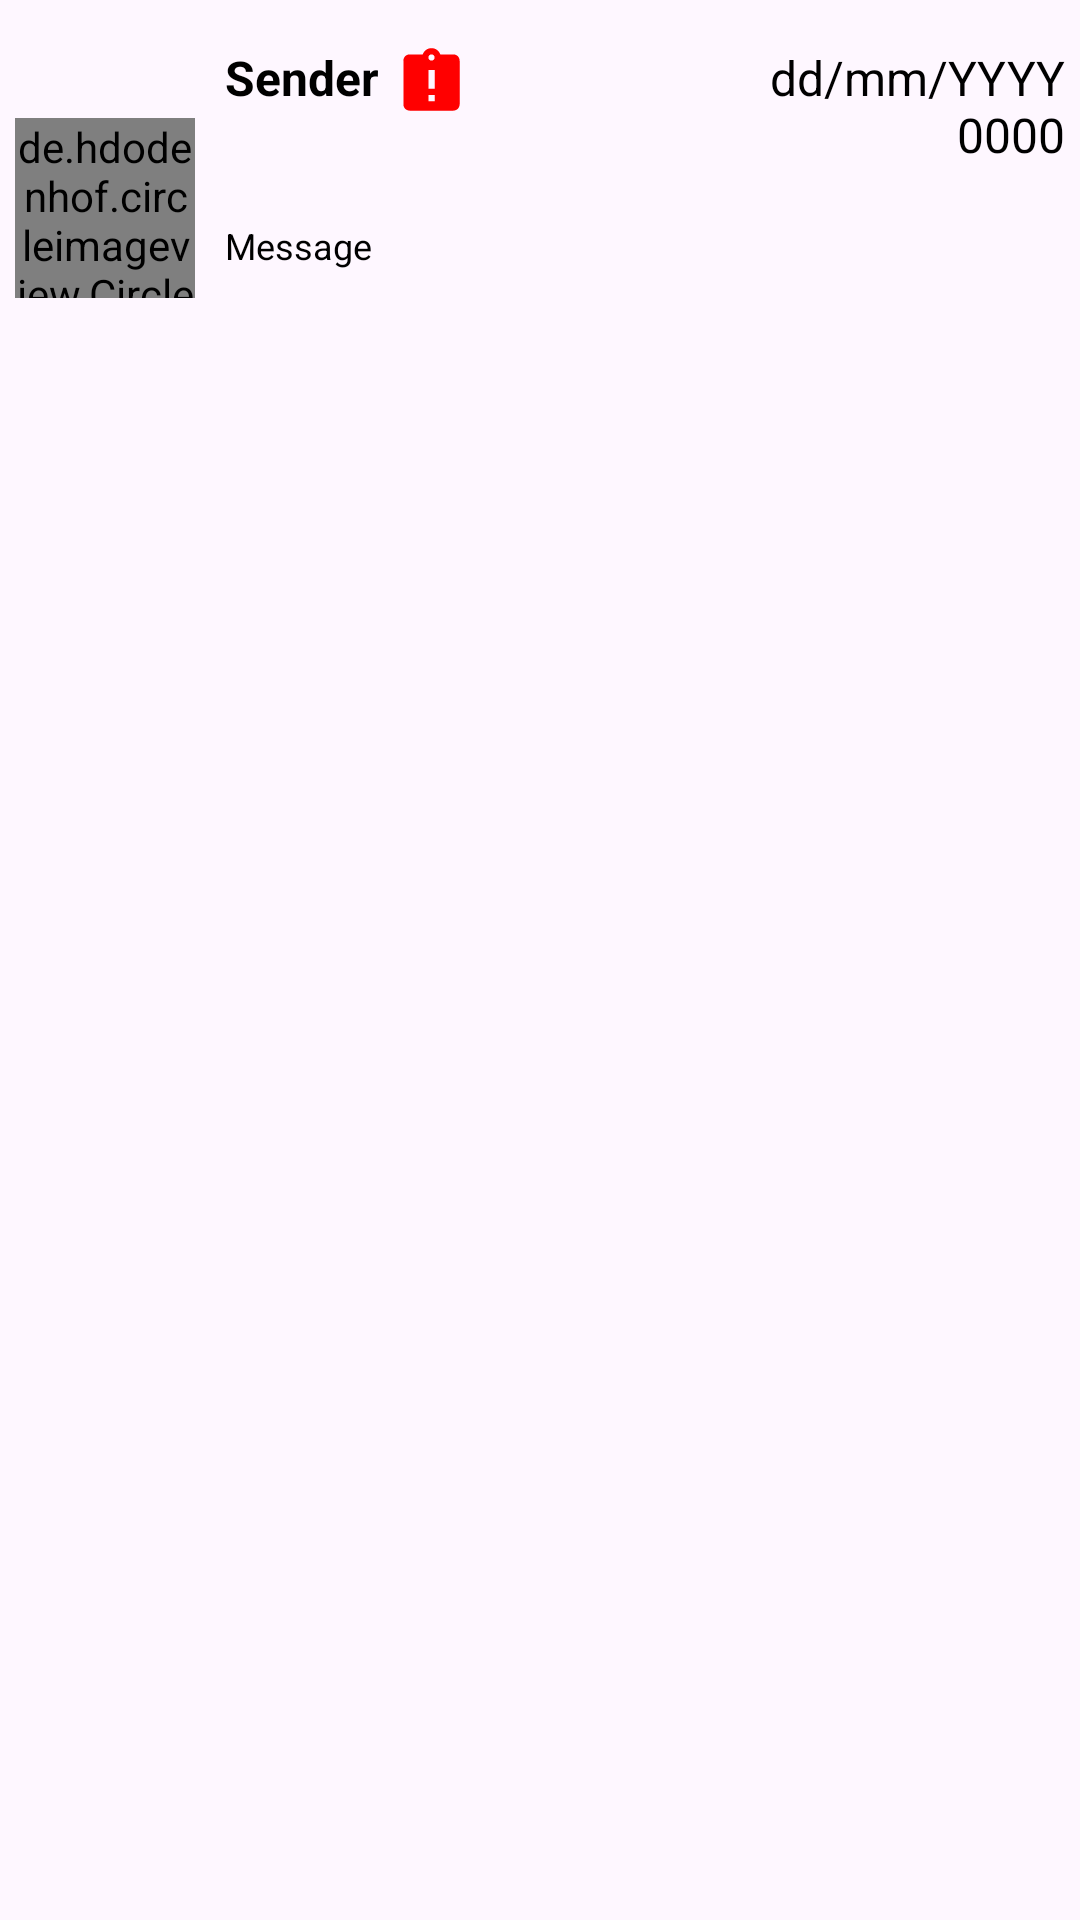

Screen size 1080 x 1920. Icon name, then its center in pixels as point (x, y):
assignment late: point (431, 79)
